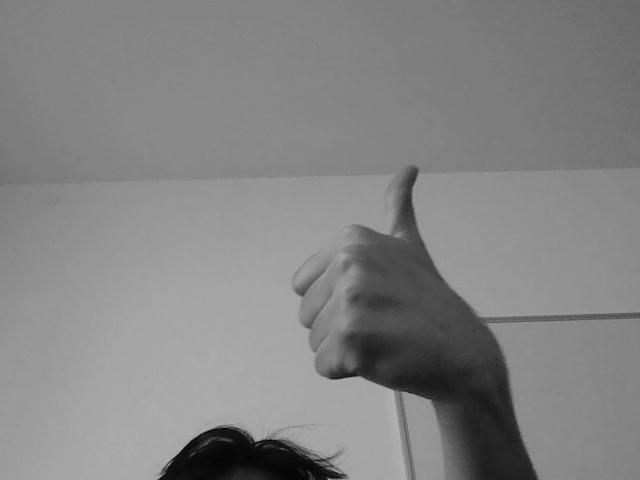friend: (281, 160, 492, 417)
